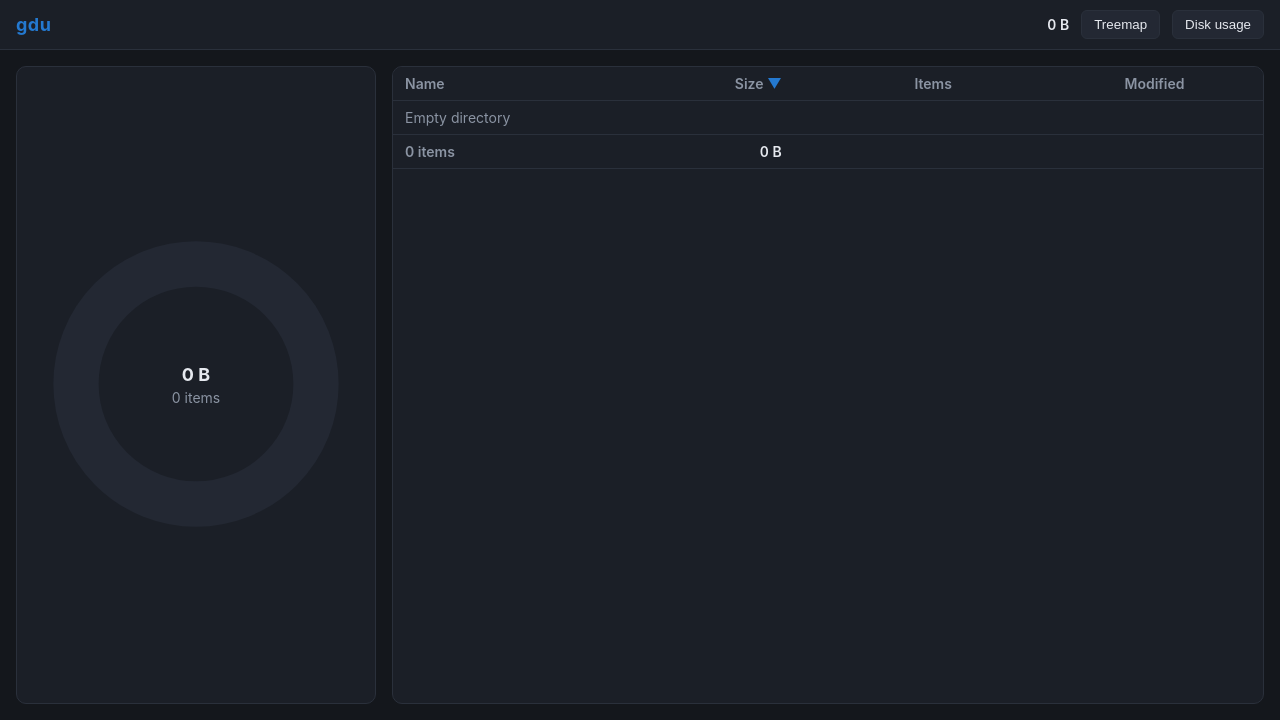
treemap actions › includes the treemap-only shortcuts in help when viewing the treemap
This screenshot has width=1280, height=720.
Click the button "Treemap": (1121, 24) [1081,10,1160,39]
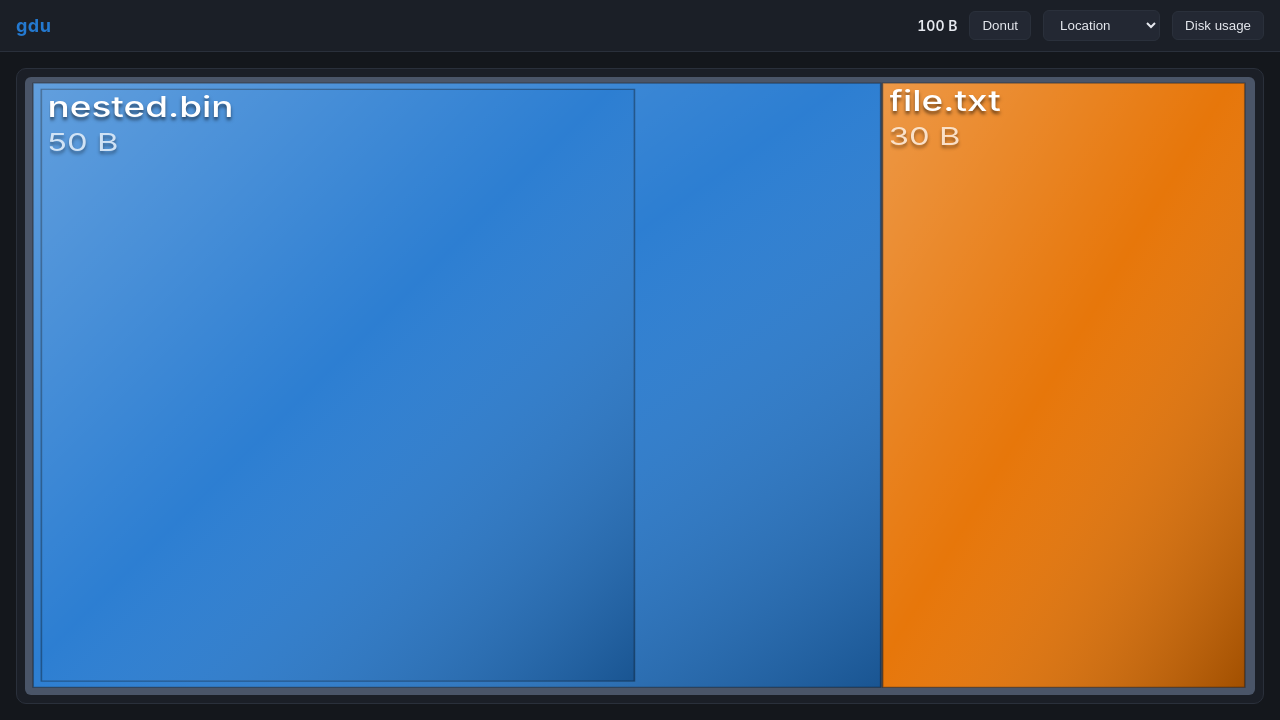
Check: the picture named "Directory size treemap" is shown
Press ?
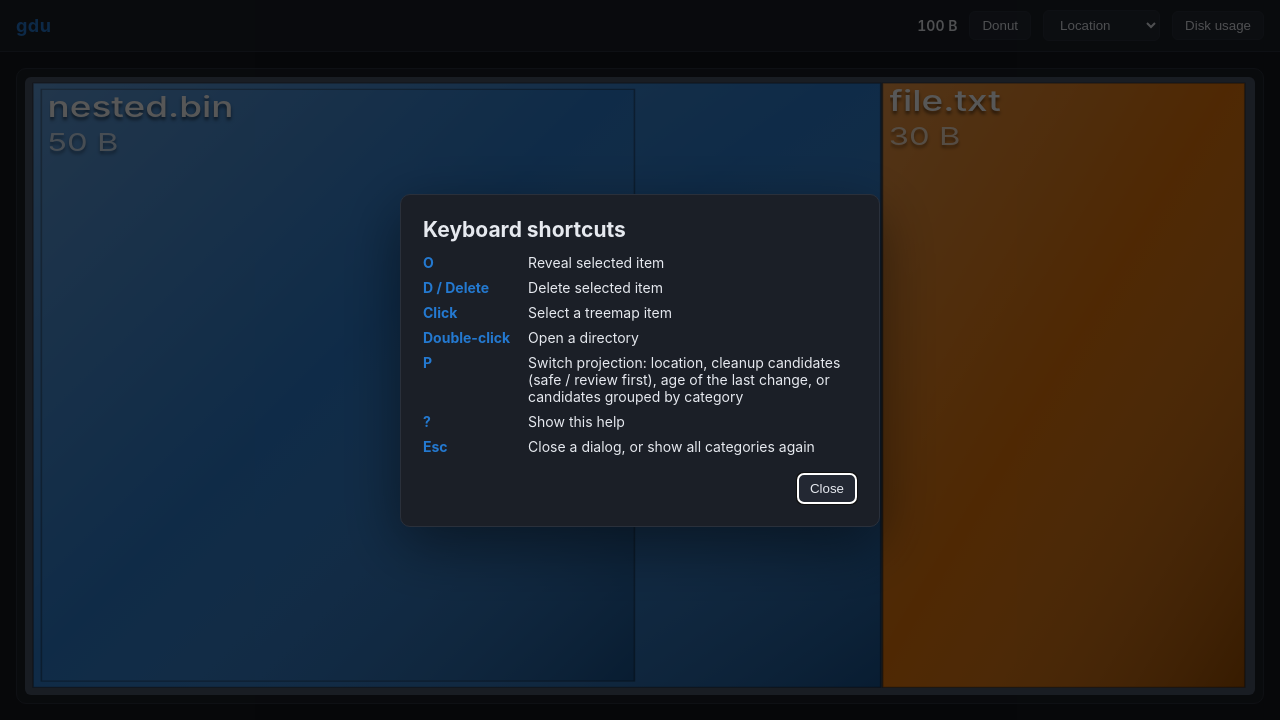
Check: the dialog "Keyboard shortcuts" is shown, box [400,194,880,526]
Check: the text "Reveal selected item" is shown, box [528,254,664,270]
